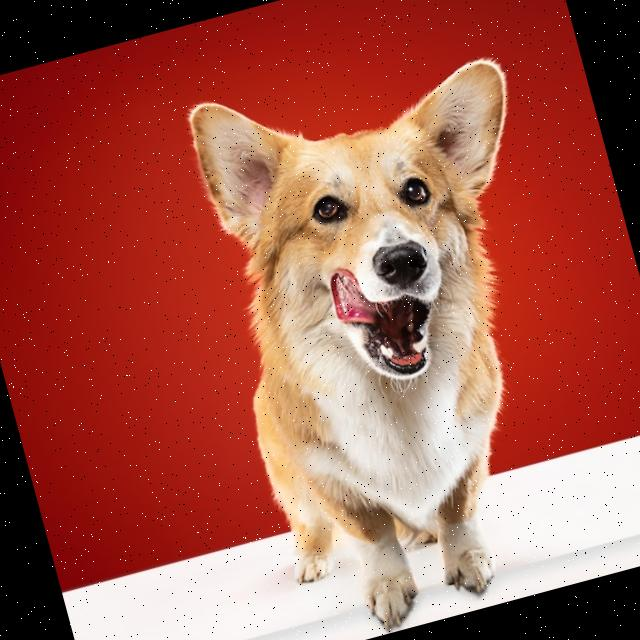Dog: (169, 24, 636, 640)
